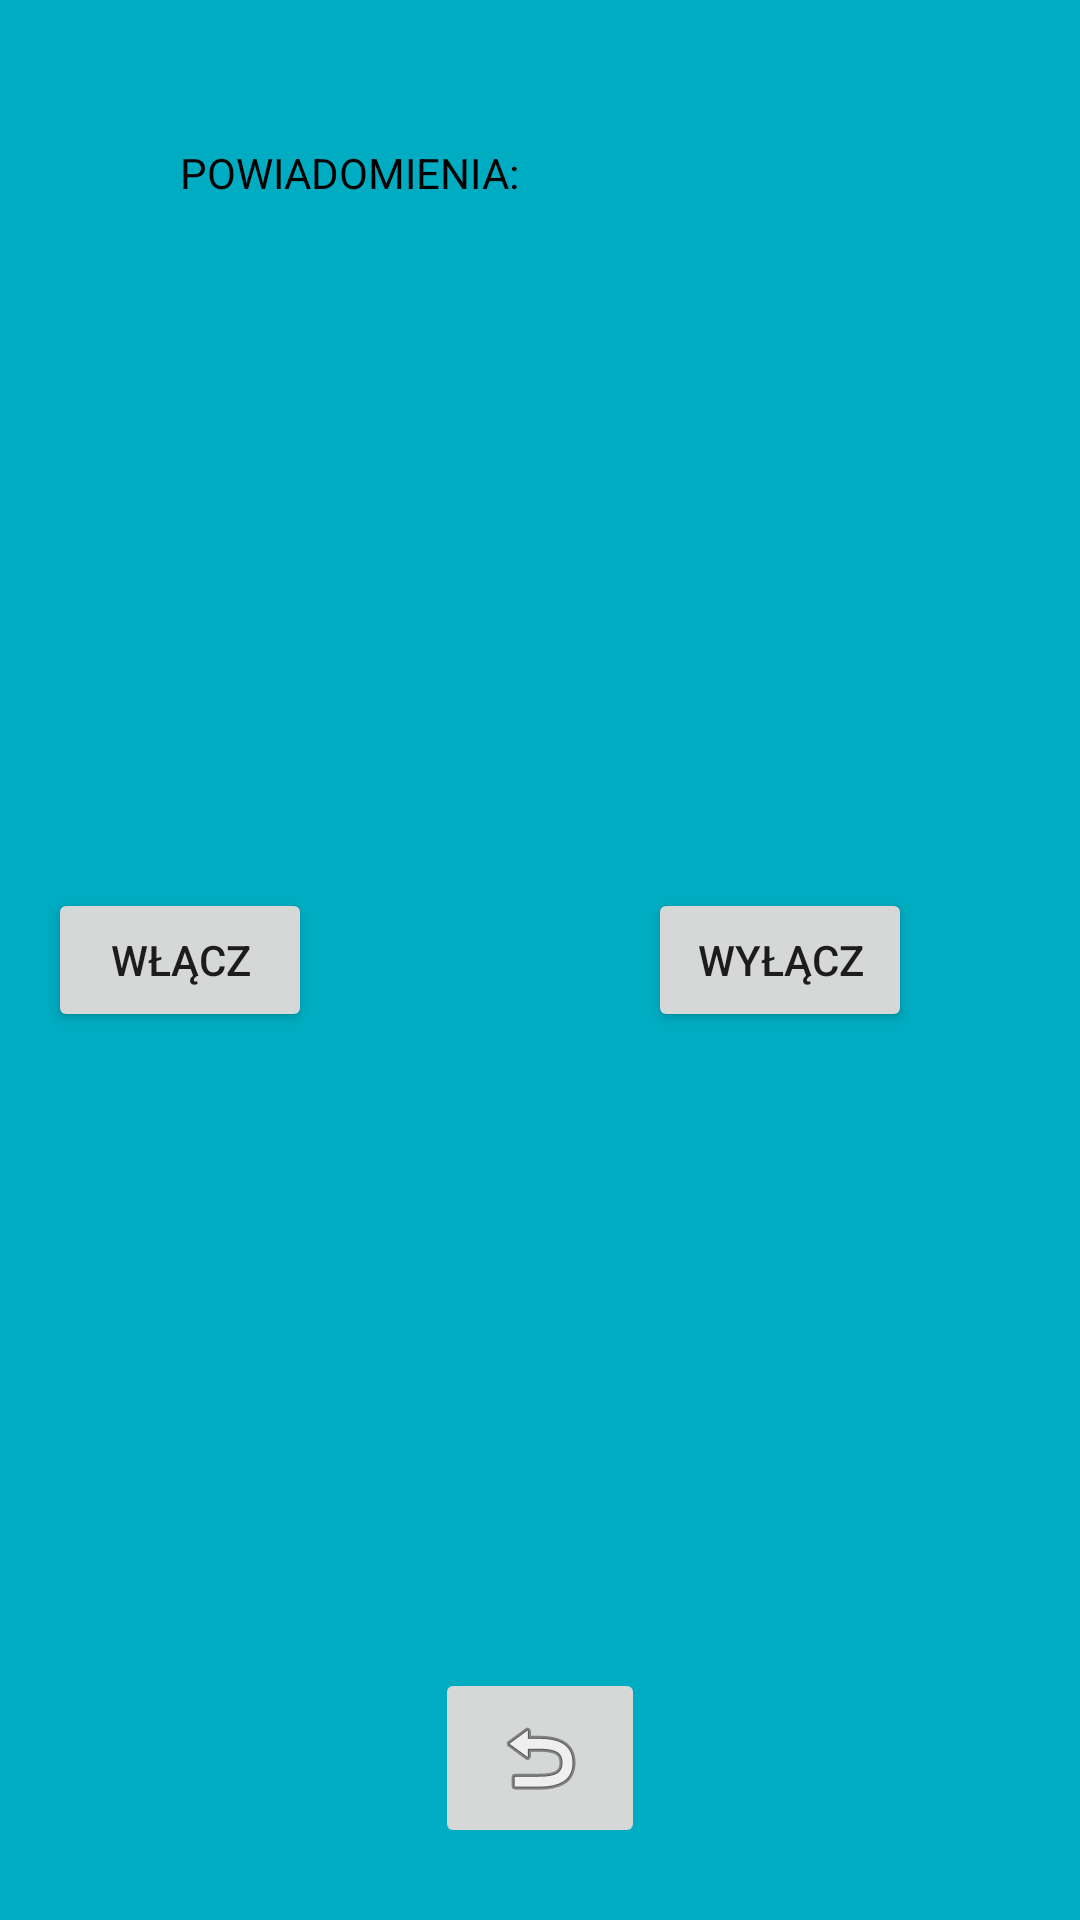

Locate icon controls on the screen. Image size 1080px×1920px, boxes as (x1, y1, x2, y2).
revert: (447, 1686, 633, 1830)
